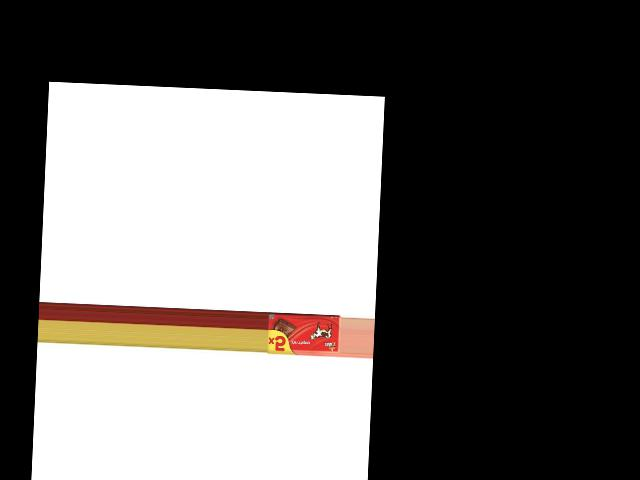chocolate: (267, 312, 342, 358)
